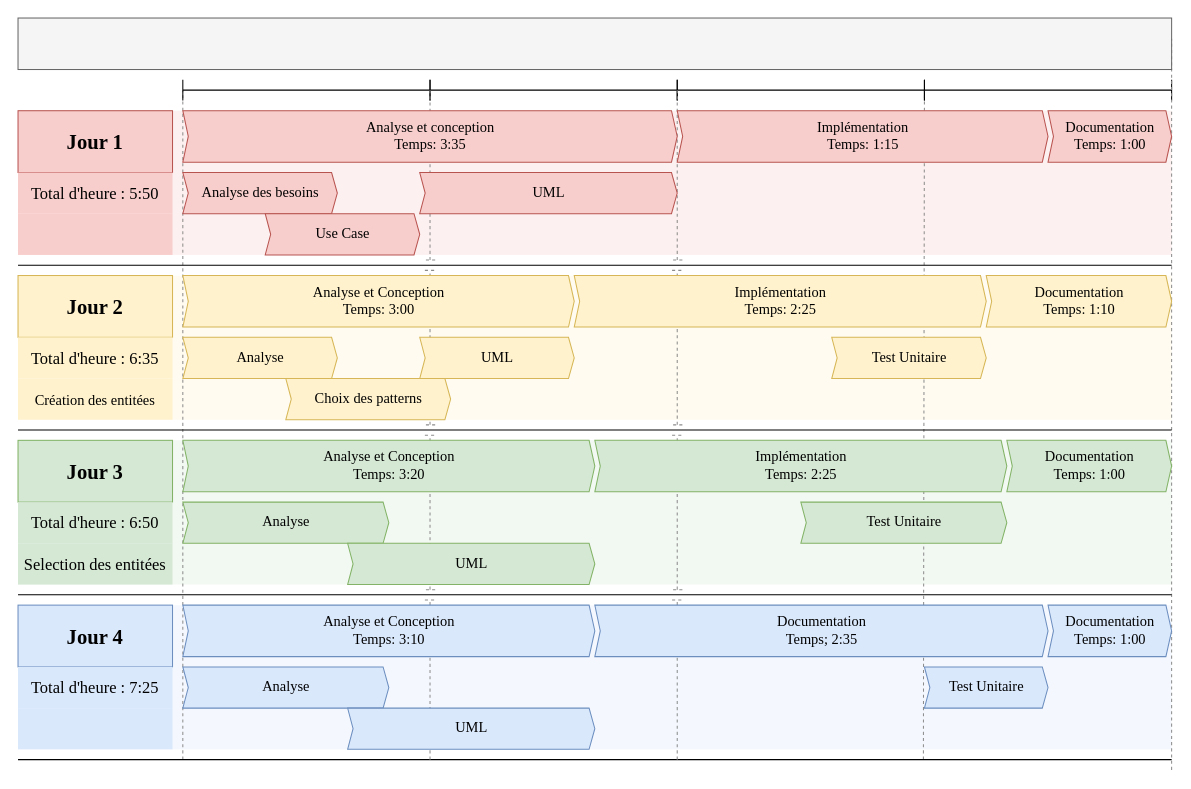
This 1191x789 diagram has some shape labels left out. The shapes that lost their labels are listed below. From the top down, each one's centre as x and y in pixels, then its label:
(594,43): Semaine 2 (09.05.2022 - 12.05.2022): Entitées
(95,233): Data Structure des entitées
(95,728): Ordre de Placement
